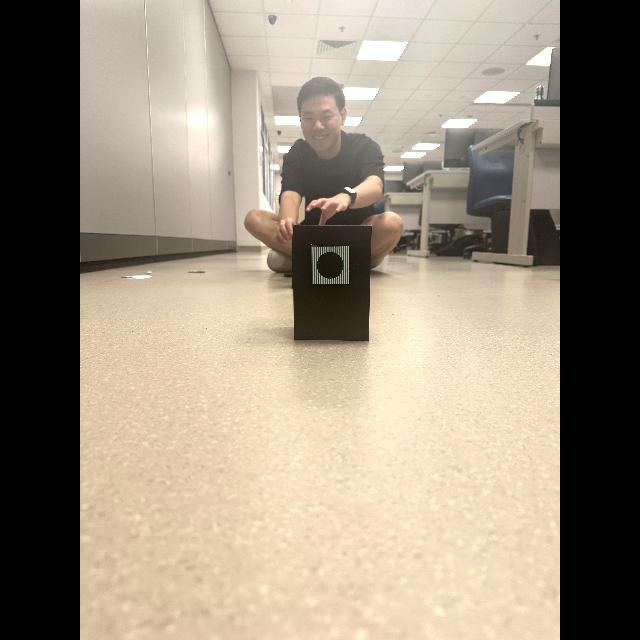CIRCLE: (317, 252, 343, 279)
